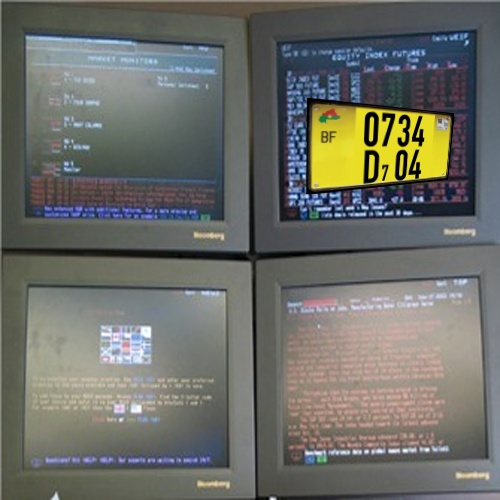plate: (297, 88, 459, 201)
